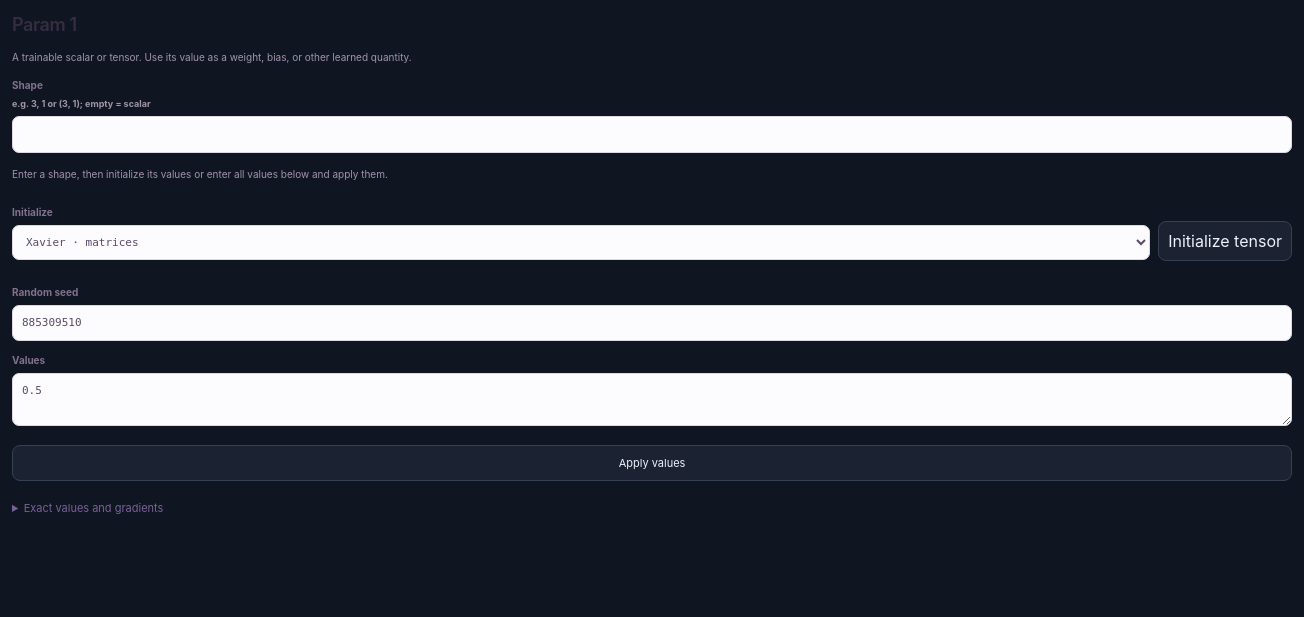
Test: scratch model authoring controls › creates an entire filter tensor and retains the selected initializer
Type "4,3,3,1" into the field named "Tensor shape".
click(652, 134); type("4,3,3,1")  # box [12,116,1292,153]
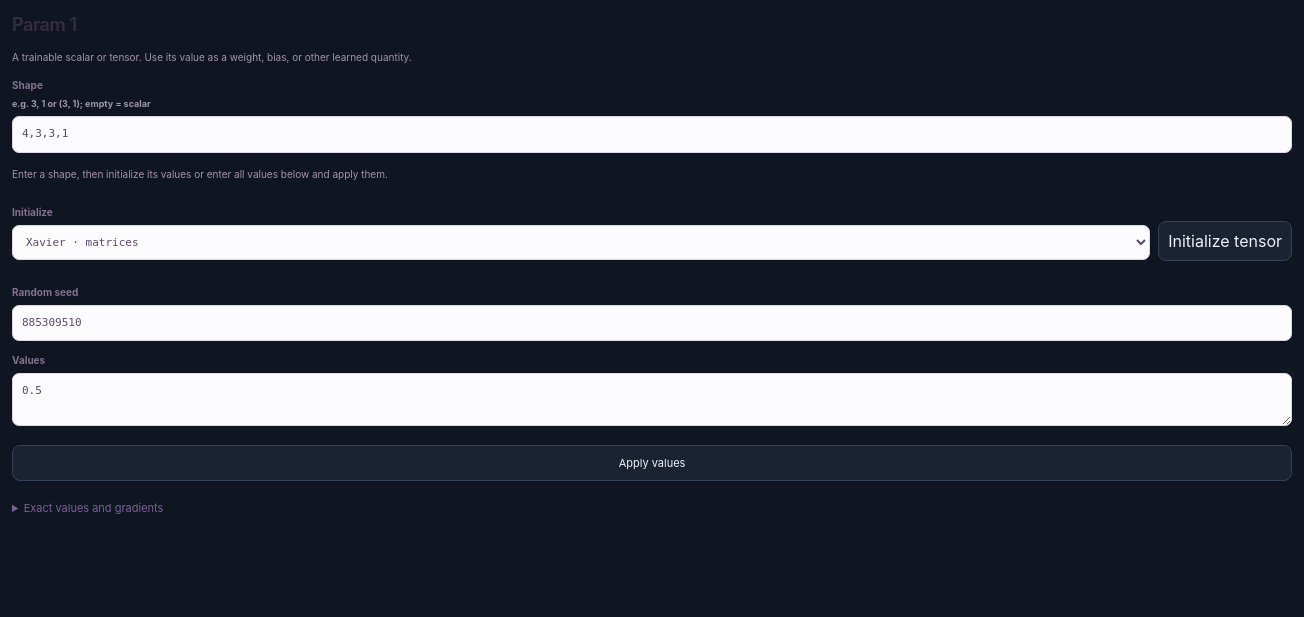
Select "He · ReLU / filters" in the dropdown named "Tensor initializer" at [581, 242], box [12,225,1150,260]
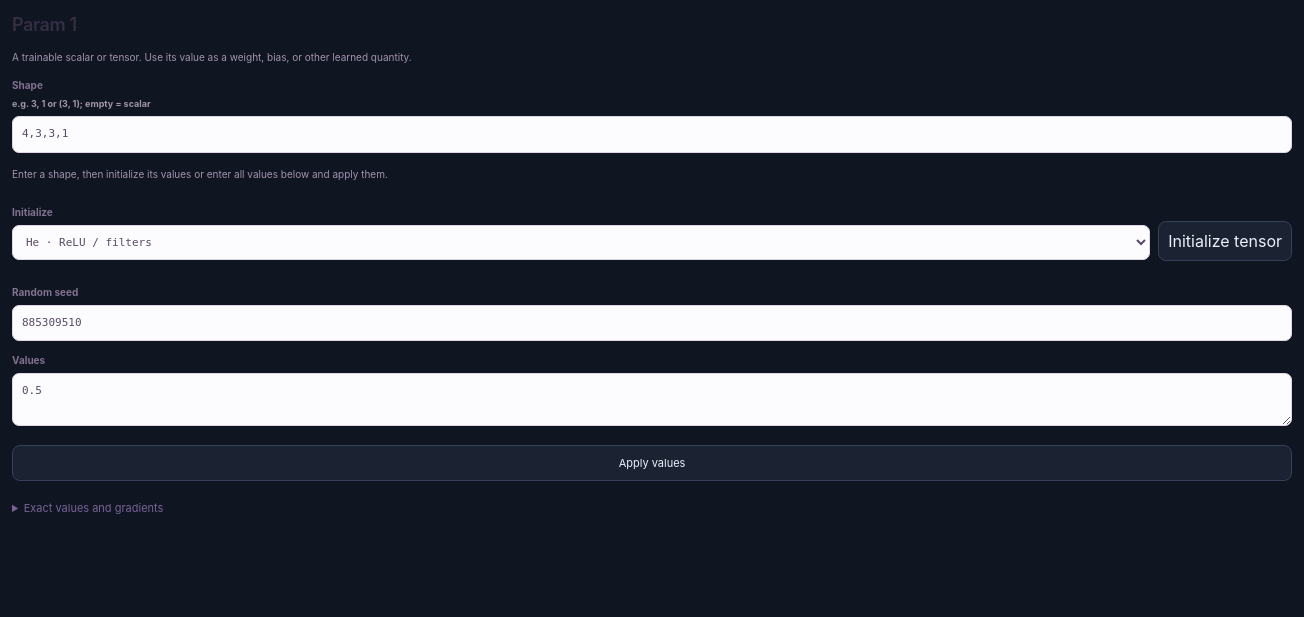
Click the button "Initialize tensor".
click(1225, 241)  # box [1158,221,1292,261]
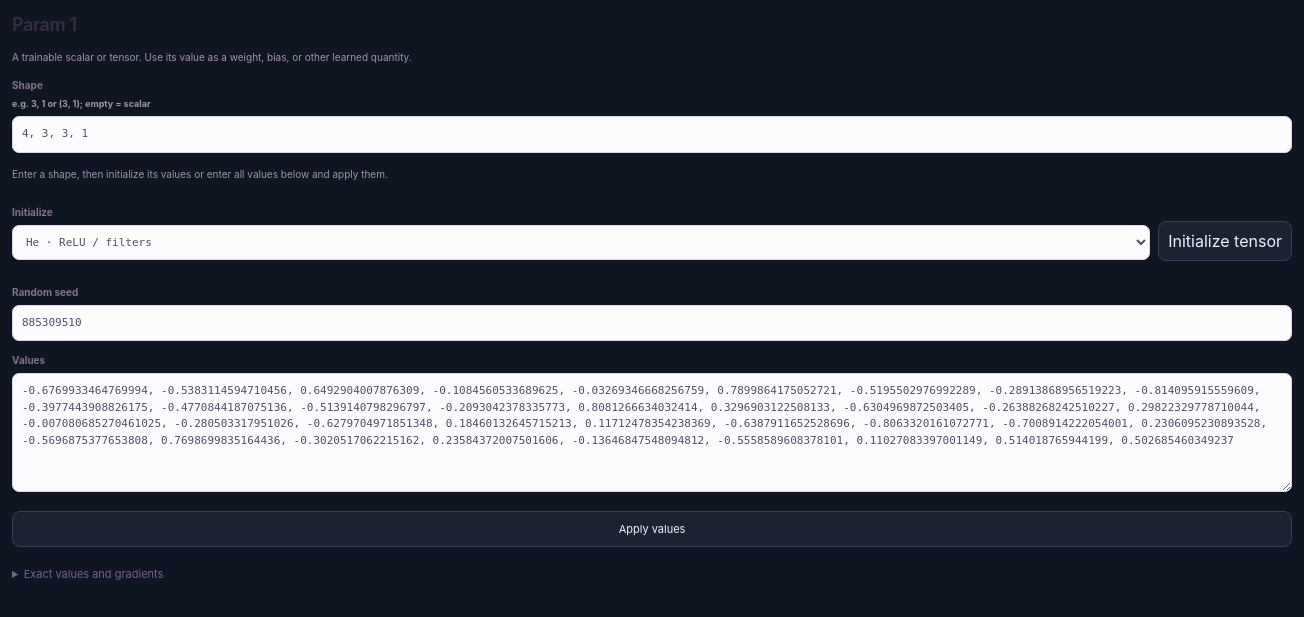
Expected: the field named "Tensor shape" holds "4, 3, 3, 1"
Replace the text in the field named "Tensor shape" with "-3,0" at [652, 134], box [12,116,1292,153]
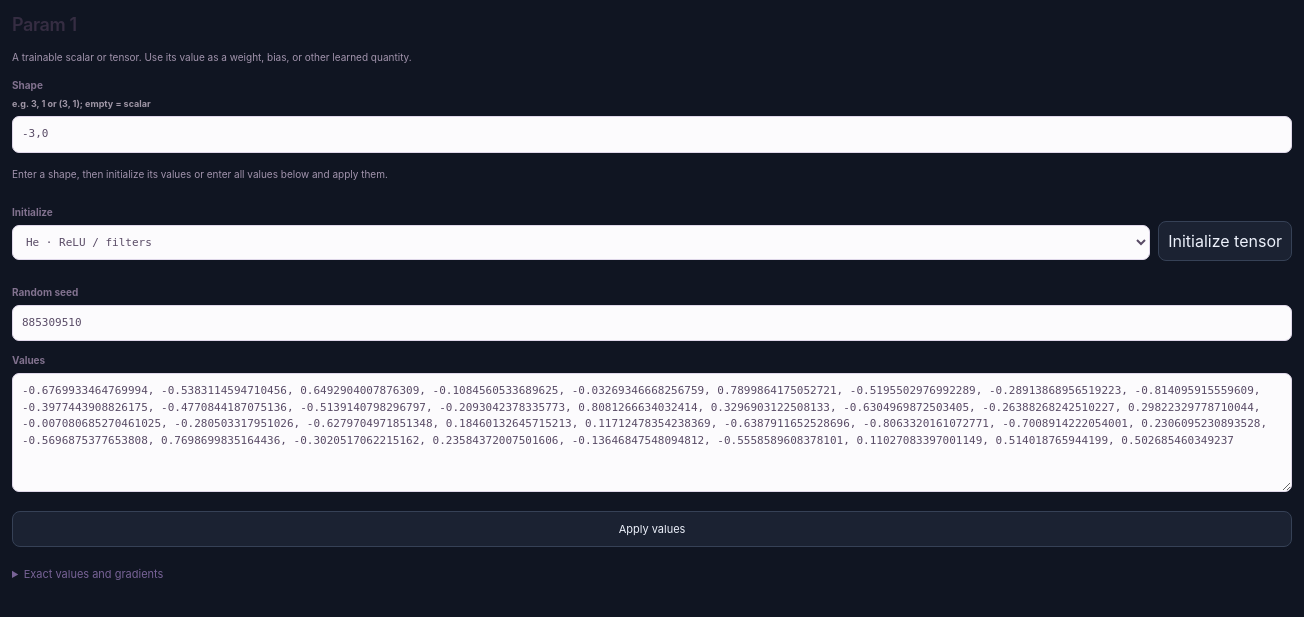
Click the button "Initialize tensor".
click(1225, 241)  # box [1158,221,1292,261]
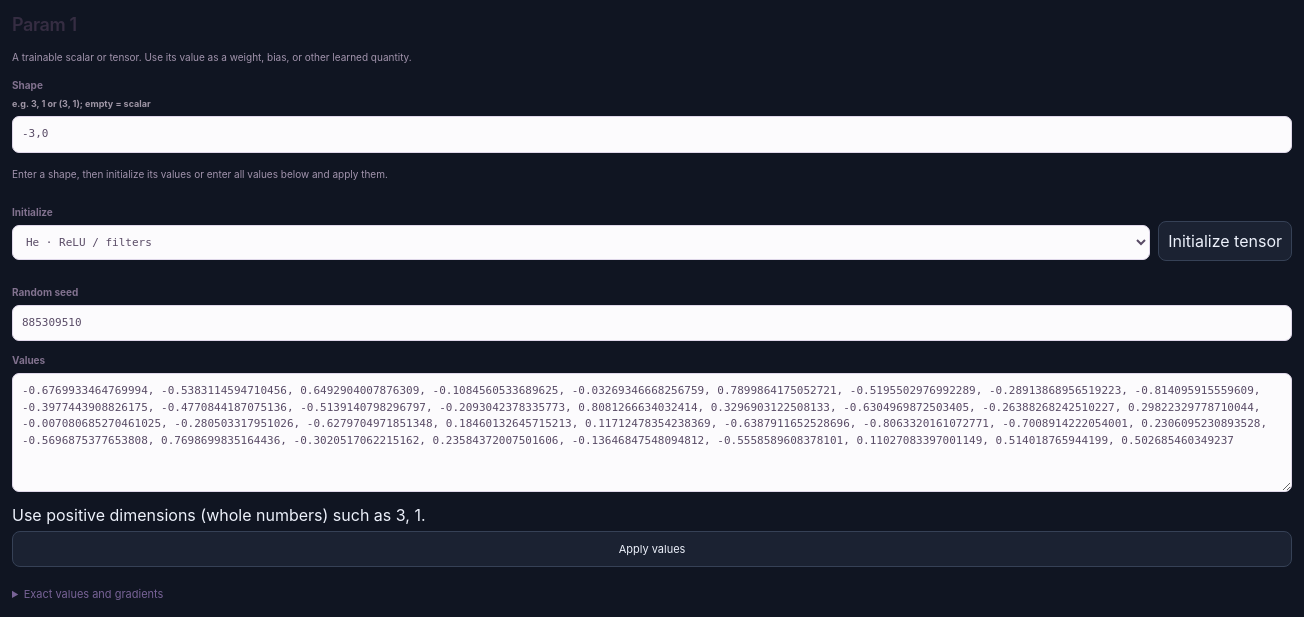
Expected: the message shows "positive dimensions", [12,505,426,525]
